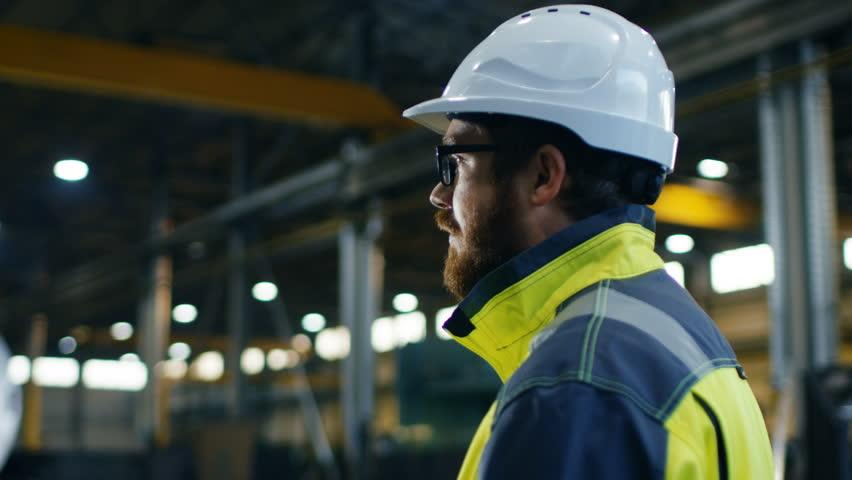helmet: (400, 1, 681, 176)
